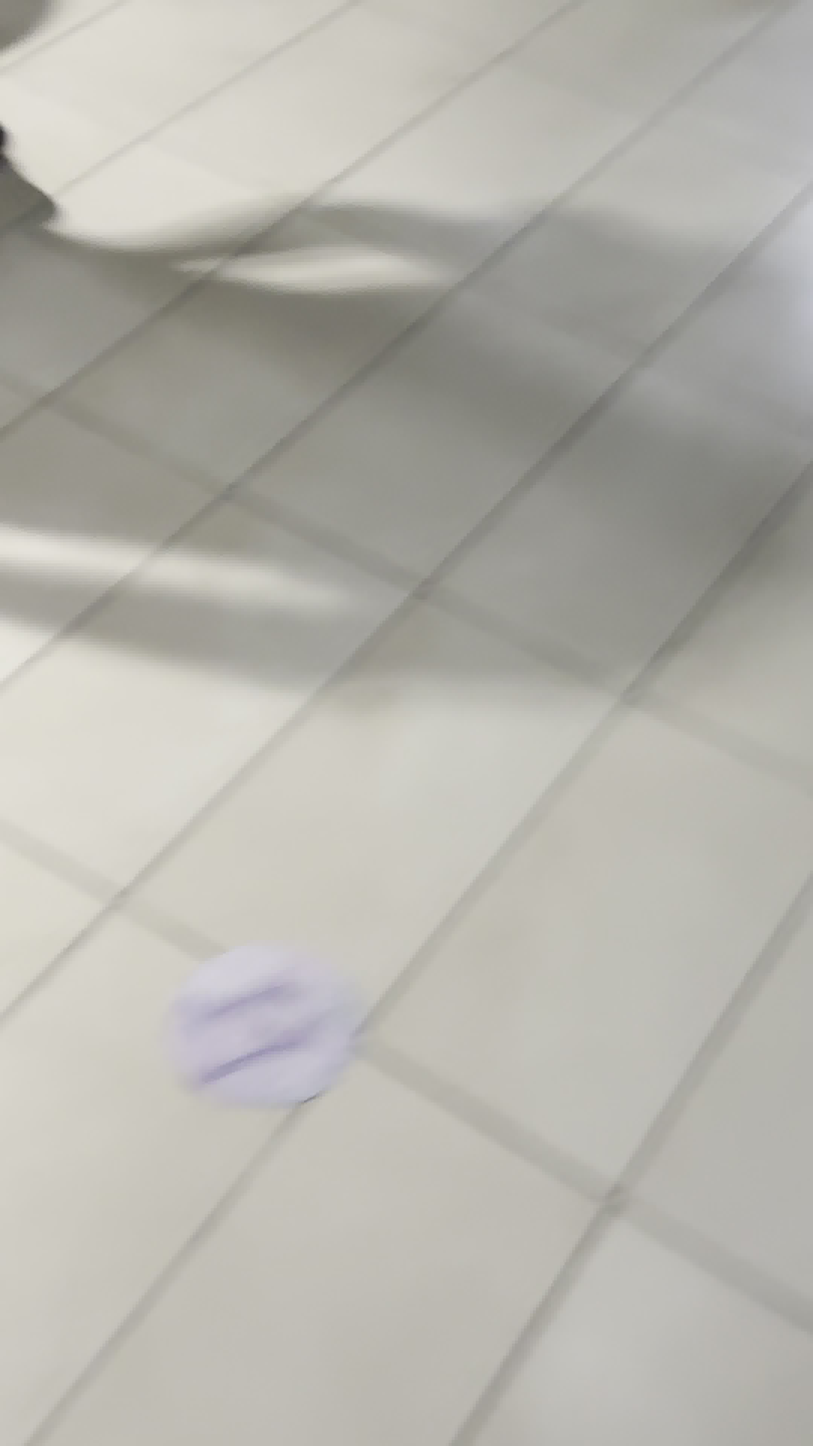Target: (172, 946, 355, 1105)
